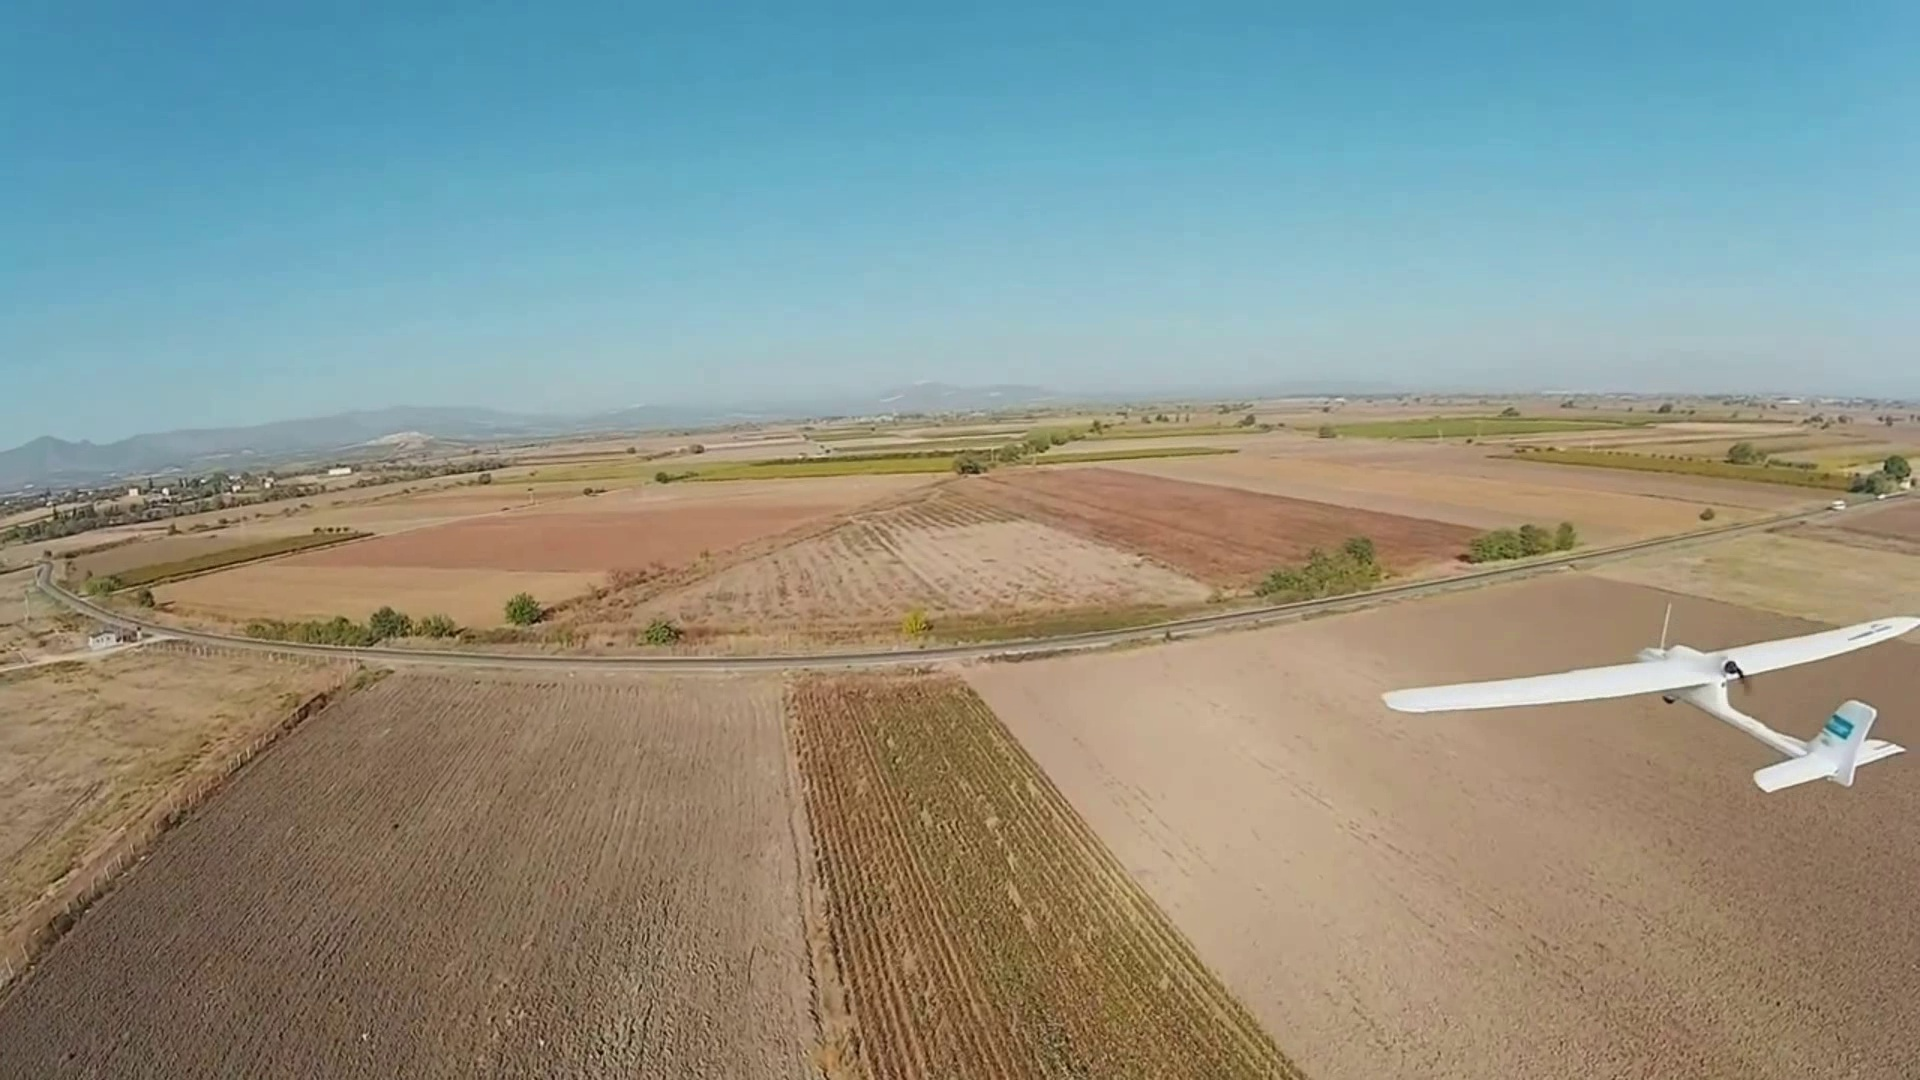airplane: (1384, 612, 1918, 791)
